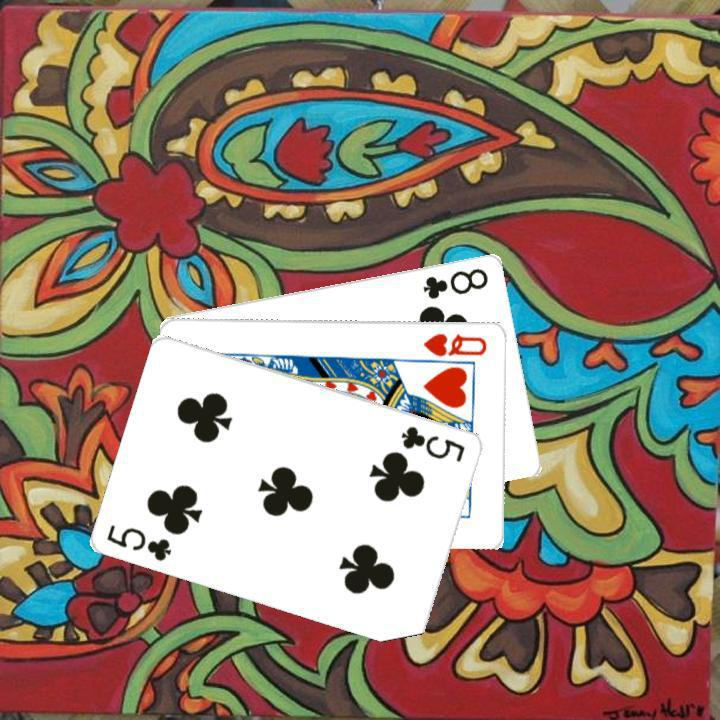5: (397, 421, 468, 464), (103, 520, 174, 563)
8: (419, 263, 491, 301)
Q: (420, 328, 490, 358)
